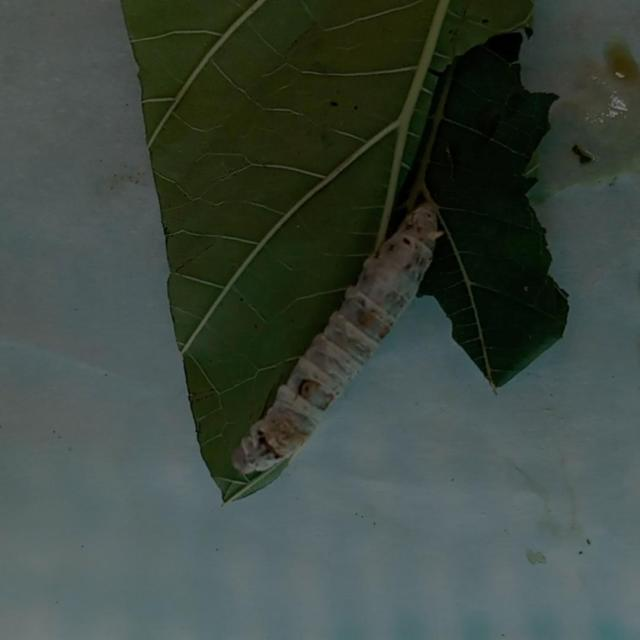Grasserie: (210, 166, 460, 513)
